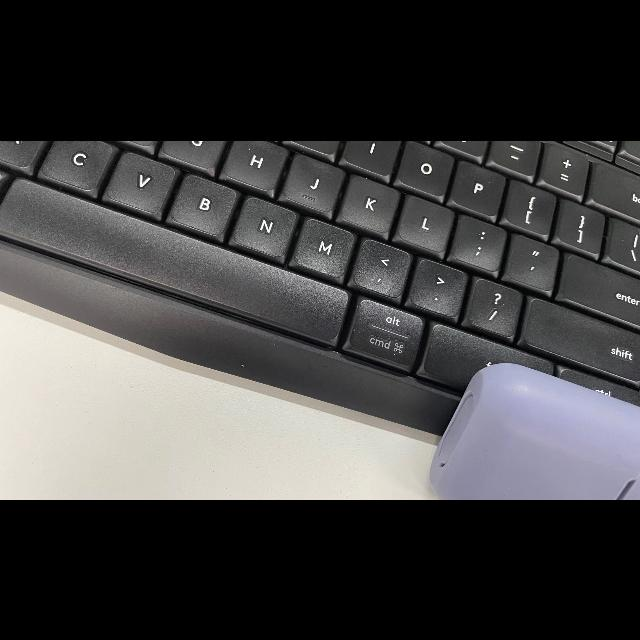airpods: (428, 364, 640, 499)
